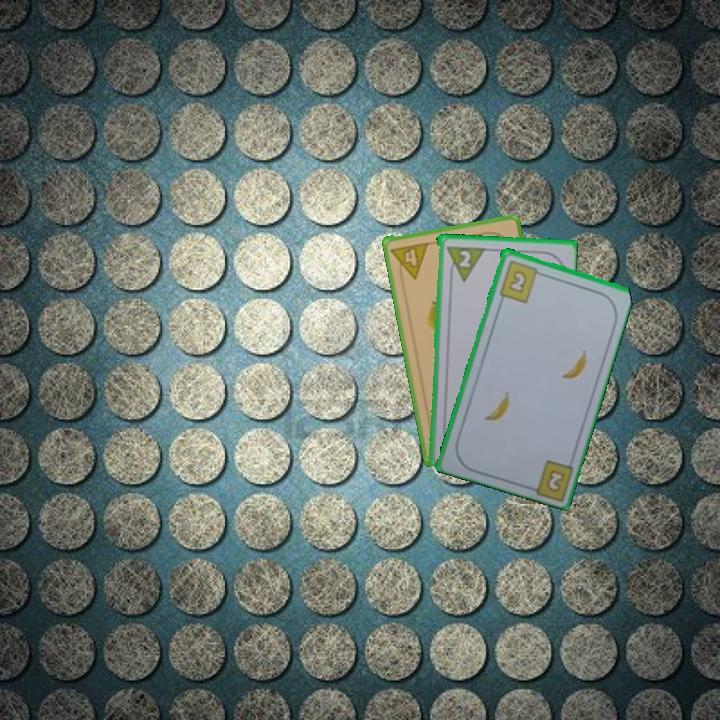2b: (495, 256, 545, 305), (543, 466, 567, 495)
2p: (442, 242, 486, 284)
4p: (387, 238, 432, 283)
